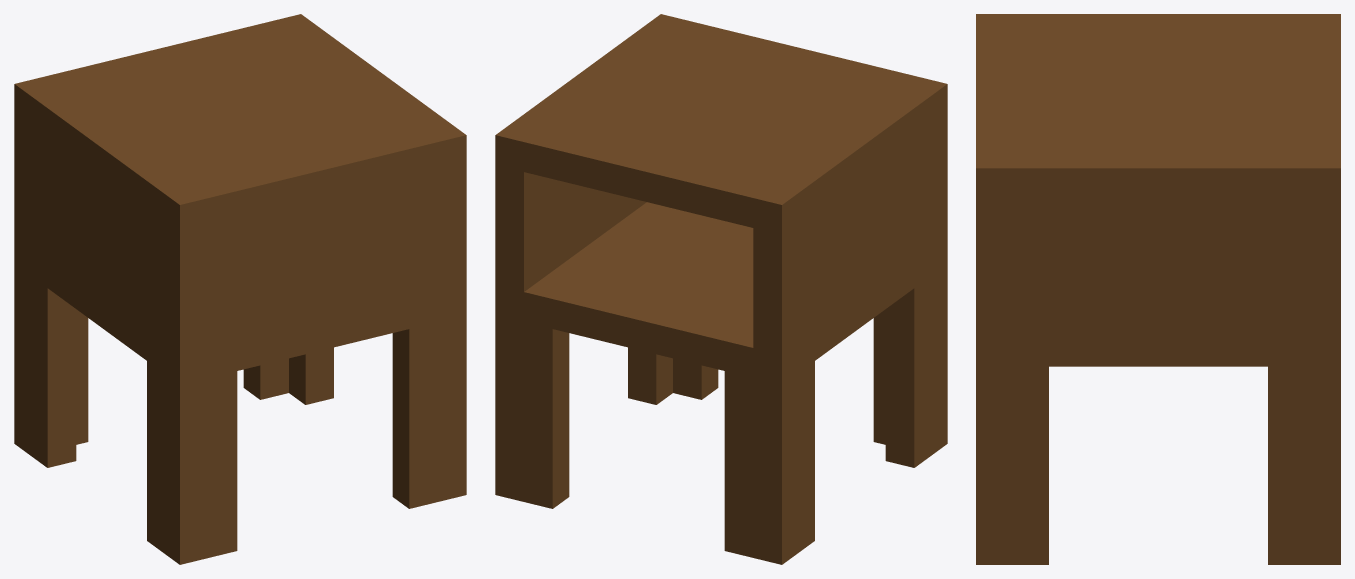
Rendered from night stand.obj.
The picture shows the model from 3 angles, left to right: view 1: azimuth 30°, elevation 25°; view 2: azimuth 150°, elevation 25°; view 3: azimuth 270°, elevation 25°; orthographic projection. The views are drawn at different scales.
Visible parts, largest first — view 1: night stand; view 2: night stand; view 3: night stand.
Boxes of the visible parts, x1,y1,x2,y2 form: night stand: (14,14,466,564); night stand: (495,14,947,564); night stand: (976,14,1340,564).
Size of the model in its own units: 10 by 12 by 10.
